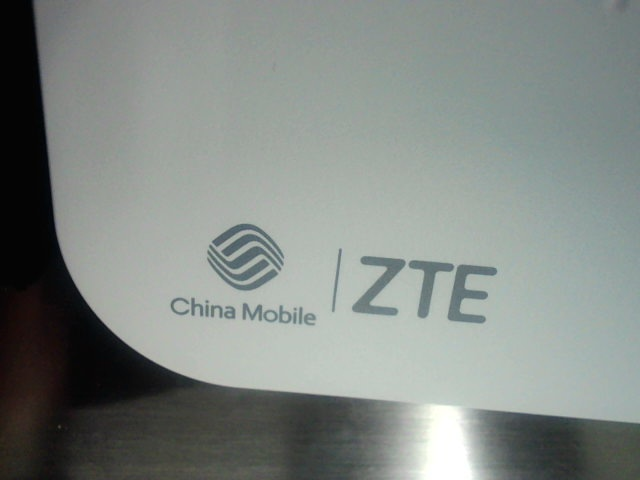AL_ZTEChinaMobile: (167, 210, 509, 332)
